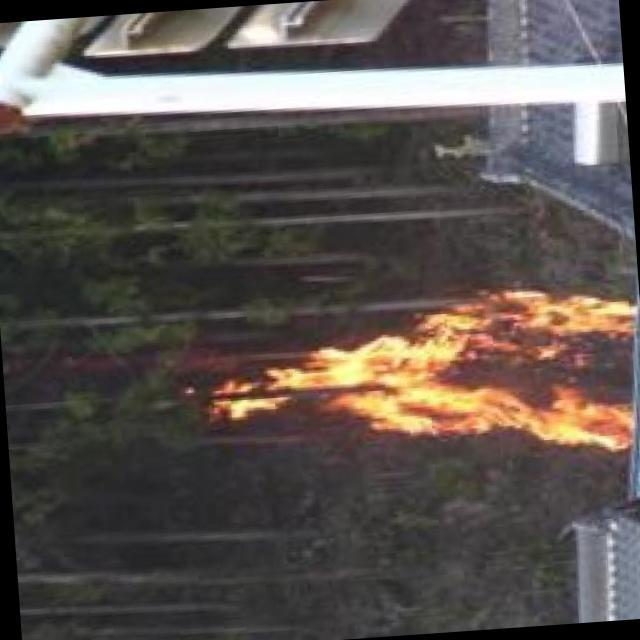Fire: (220, 276, 640, 477)
